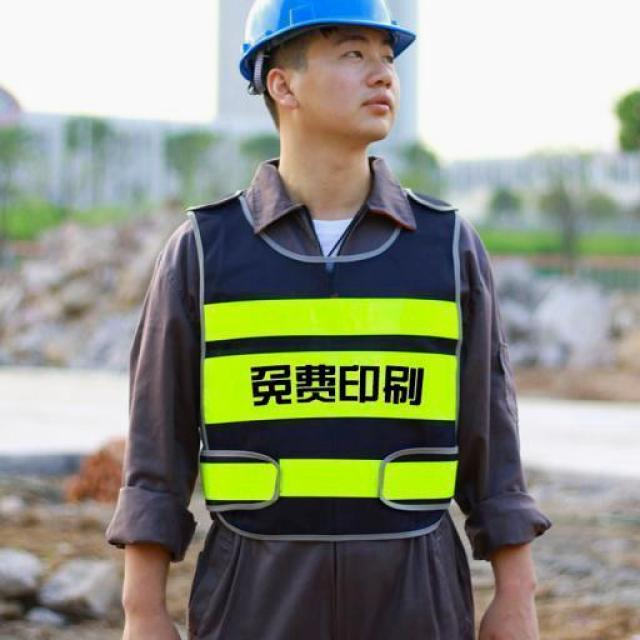face_nomask: (328, 41, 410, 127)
head_helmet: (237, 1, 419, 47)
person: (103, 0, 552, 640)
vest: (188, 185, 468, 543)
